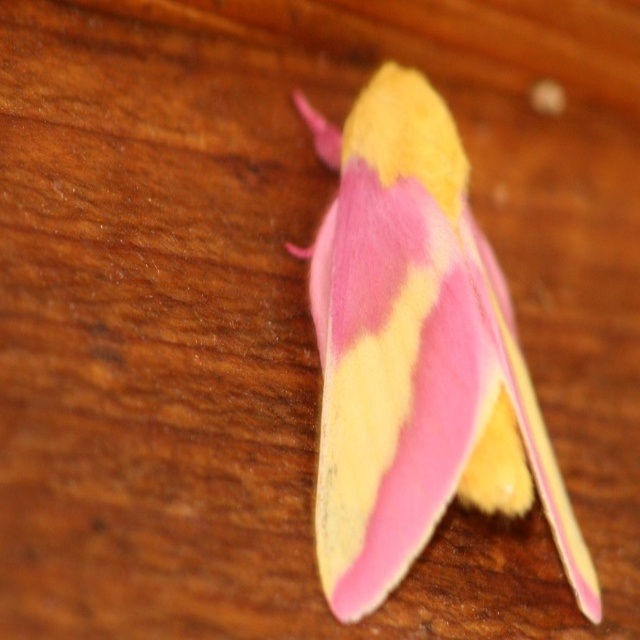Butterfly: (319, 114, 592, 640)
